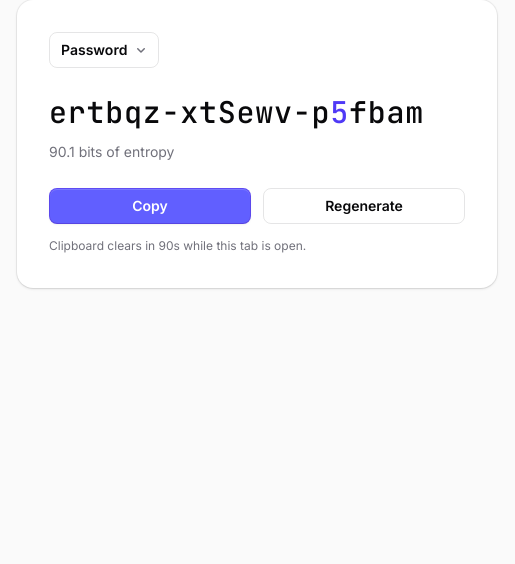
it: GeneratorCard — Custom Password and Memorable controls › removes the option controls for PIN
Click the button with aria-label "Format:".
click(104, 50)  # box [49,32,159,68]
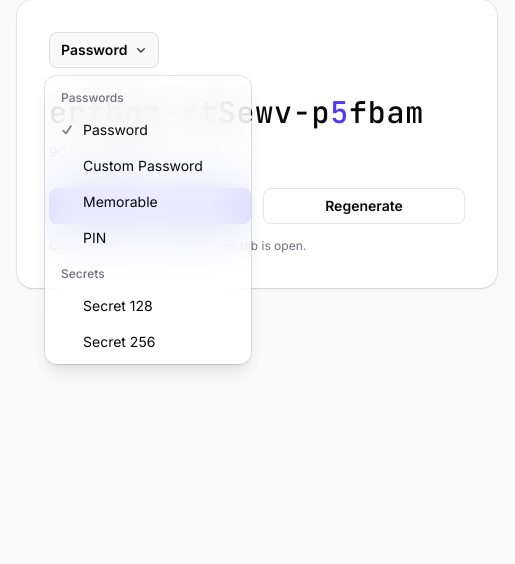
Click the menu item "Custom Password".
click(148, 166)  # box [49,148,247,184]
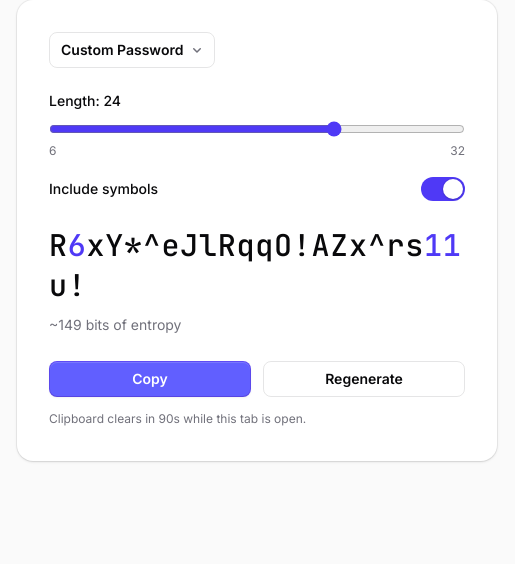
Click the button with aria-label "Format:".
click(132, 50)  # box [49,32,215,68]
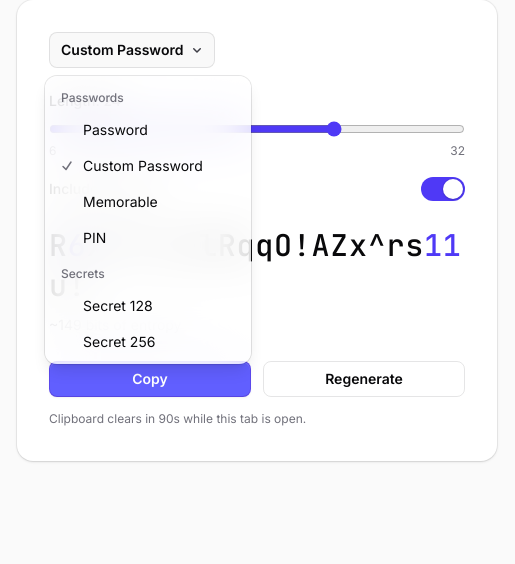
Click the menu item "Memorable".
click(148, 202)  # box [49,184,247,220]
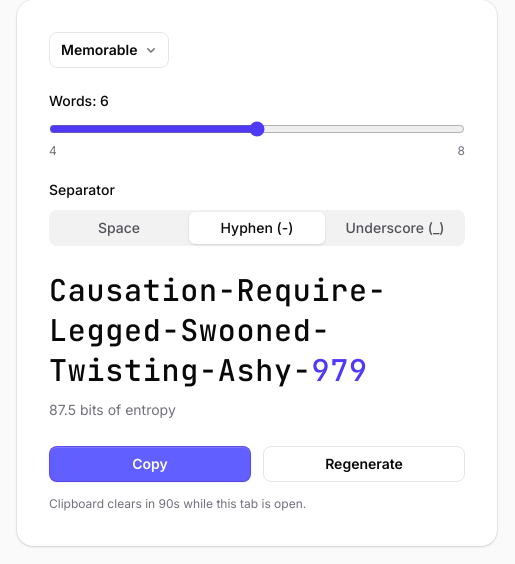
Click the button with aria-label "Format:".
click(109, 50)  # box [49,32,170,68]
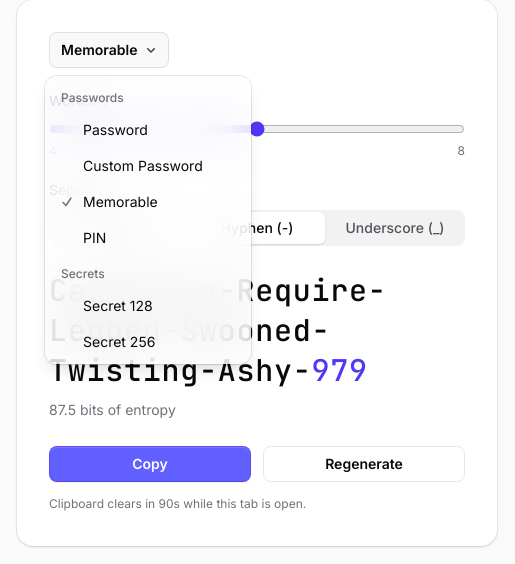
Click the menu item "PIN".
click(148, 238)  # box [49,220,247,256]
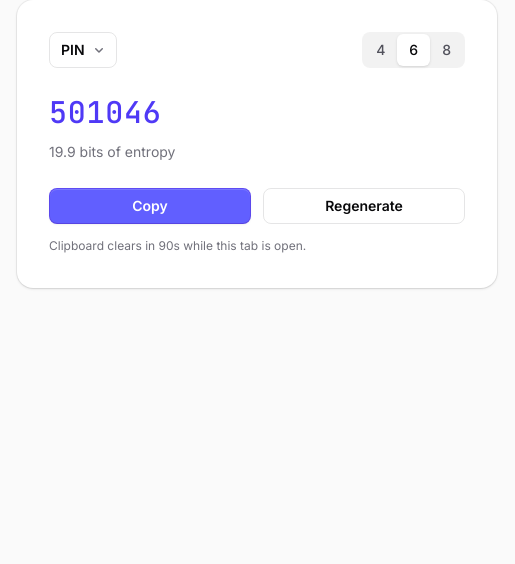
Now the slider is gone
Now the text "Separator" is gone
